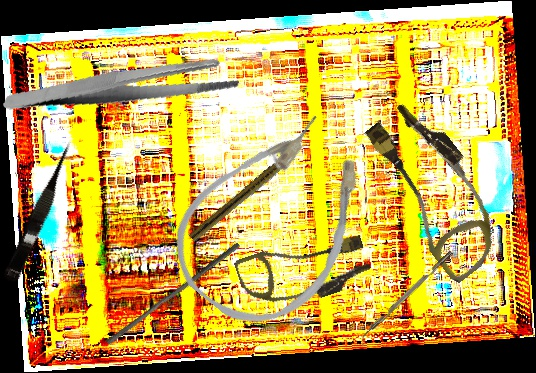Cannula: (150, 90, 403, 351), (347, 93, 524, 286), (233, 219, 375, 322)
Chopper: (355, 250, 458, 347)
Dressing Forceps: (2, 31, 243, 141)
Handpiece: (188, 138, 311, 245)
Micro Scissor: (1, 137, 82, 286)
Pusher: (105, 236, 241, 351)
